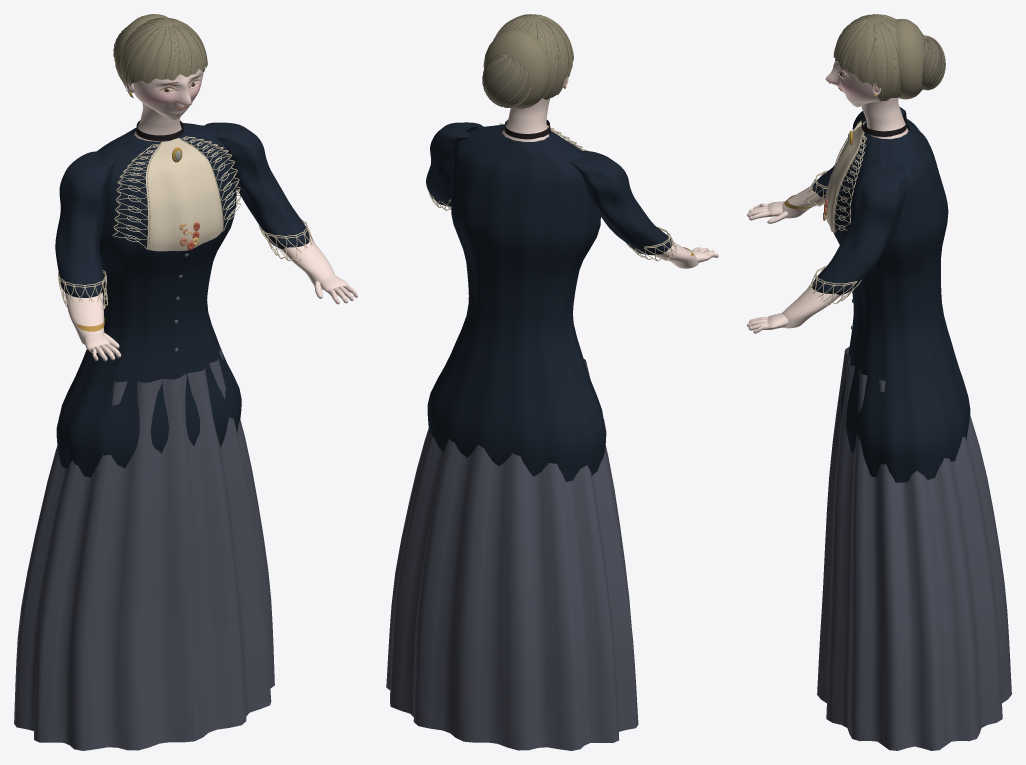
Rendered from French-Barmaid.glb.
3 views of the same model, side by side, from view 1: azimuth 30°, elevation 25°; view 2: azimuth 150°, elevation 25°; view 3: azimuth 270°, elevation 25° (orthographic). The views are drawn at different scales.
Parts seen in each view (by area): view 1: The French House barmaid; view 2: The French House barmaid; view 3: The French House barmaid.
Part boxes in pixels (left/top/right/bottom): The French House barmaid: left=14, top=14, right=357, bottom=750; The French House barmaid: left=386, top=14, right=718, bottom=750; The French House barmaid: left=747, top=14, right=1011, bottom=750.
Size of the model in its own units: 0.7021 by 1.78 by 0.6311.
